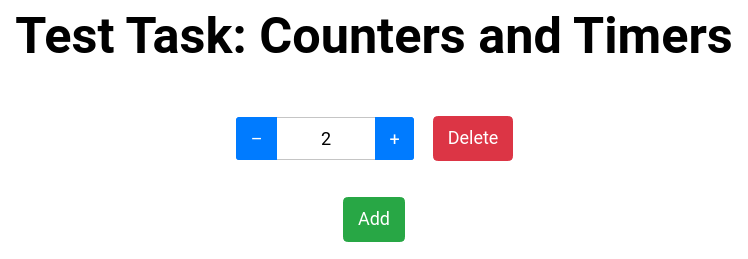
Test: App › decrements counter by click on 'minus'
The image size is (748, 259).
What coordinates should you click on to do the following:
click the button with test id "1_minus"
I would click on:
 (256, 138)
Its box is [236, 117, 277, 160].
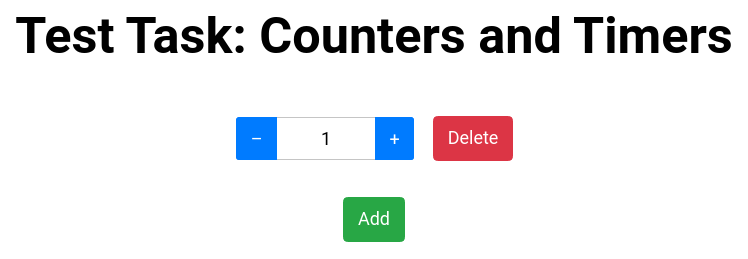
Expected: the text with test id "1_span" reads "1", [321, 128, 331, 149]
